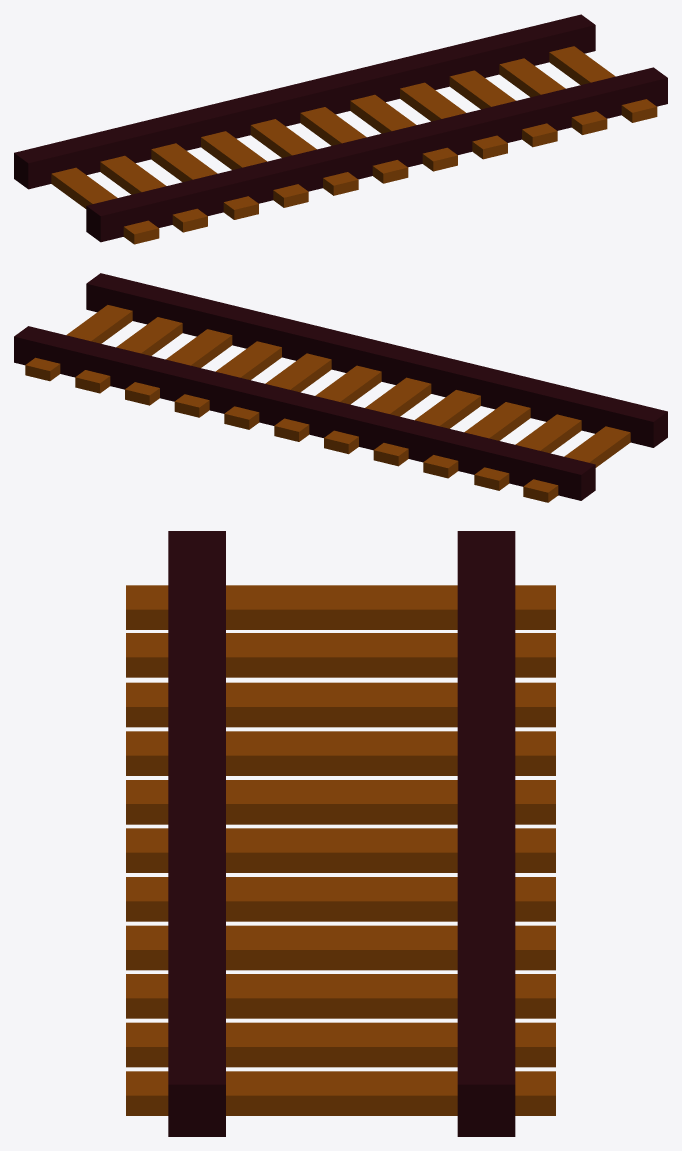
The model's file is straightRail01.fbx.
3 renders of one model, top to bottom at view 1: azimuth 30°, elevation 25°; view 2: azimuth 150°, elevation 25°; view 3: azimuth 270°, elevation 25°, orthographic. The views are drawn at different scales.
Visible parts, largest first — view 1: Cube.003, Cube.001, Cube.025, Cube.043, Cube.020, Cube.044, Cube.042, Cube.021, Cube.023, Cube.019, Cube.024, Cube.041 (+1 smaller); view 2: Cube.001, Cube.003, Cube.025, Cube.043, Cube.023, Cube.024, Cube.020, Cube.022, Cube.019, Cube.041, Cube.044, Cube.042 (+1 smaller); view 3: Cube.003, Cube.001, Cube.023, Cube.041, Cube.043, Cube.025, Cube.024, Cube.022, Cube.021, Cube.020, Cube.019, Cube.042 (+1 smaller).
Part boxes in pixels (<box>): Cube.003: <box>14,14,595,189</box>; Cube.001: <box>86,67,667,242</box>; Cube.025: <box>51,167,159,244</box>; Cube.043: <box>499,58,607,134</box>; Cube.020: <box>300,107,408,183</box>; Cube.044: <box>549,46,657,122</box>; Cube.042: <box>449,70,557,147</box>; Cube.021: <box>250,119,358,195</box>; Cube.023: <box>151,143,258,219</box>; Cube.019: <box>350,94,457,171</box>; Cube.024: <box>100,155,207,232</box>; Cube.041: <box>400,82,507,159</box>; Cube.001: <box>86,273,667,447</box>; Cube.003: <box>14,326,595,500</box>; Cube.025: <box>523,426,630,502</box>; Cube.043: <box>75,317,182,393</box>; Cube.023: <box>423,402,530,478</box>; Cube.024: <box>474,414,581,490</box>; Cube.020: <box>274,365,381,441</box>; Cube.022: <box>373,390,480,466</box>; Cube.019: <box>224,353,331,429</box>; Cube.041: <box>174,341,281,417</box>; Cube.044: <box>25,305,132,381</box>; Cube.042: <box>125,329,232,405</box>; Cube.003: <box>457,531,515,1136</box>; Cube.001: <box>168,531,225,1136</box>; Cube.023: <box>126,682,555,727</box>; Cube.041: <box>126,925,555,970</box>; Cube.043: <box>126,1022,555,1067</box>; Cube.025: <box>126,585,555,629</box>; Cube.024: <box>126,633,555,677</box>; Cube.022: <box>126,731,555,775</box>; Cube.021: <box>126,780,555,824</box>; Cube.020: <box>126,828,555,872</box>; Cube.019: <box>126,877,555,921</box>; Cube.042: <box>126,974,555,1018</box>.
Size of the model in its own units: 1643 by 72.14 by 539.
